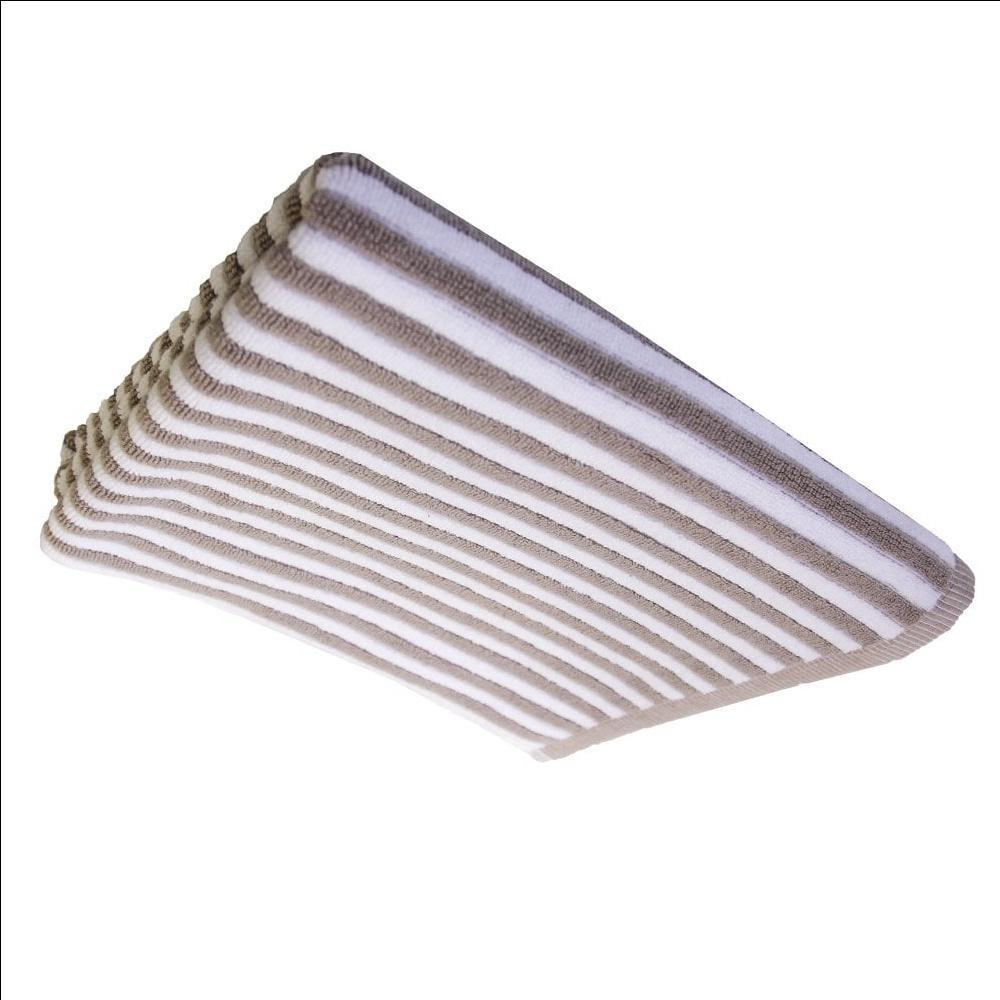towel: (0, 125, 1000, 845)
